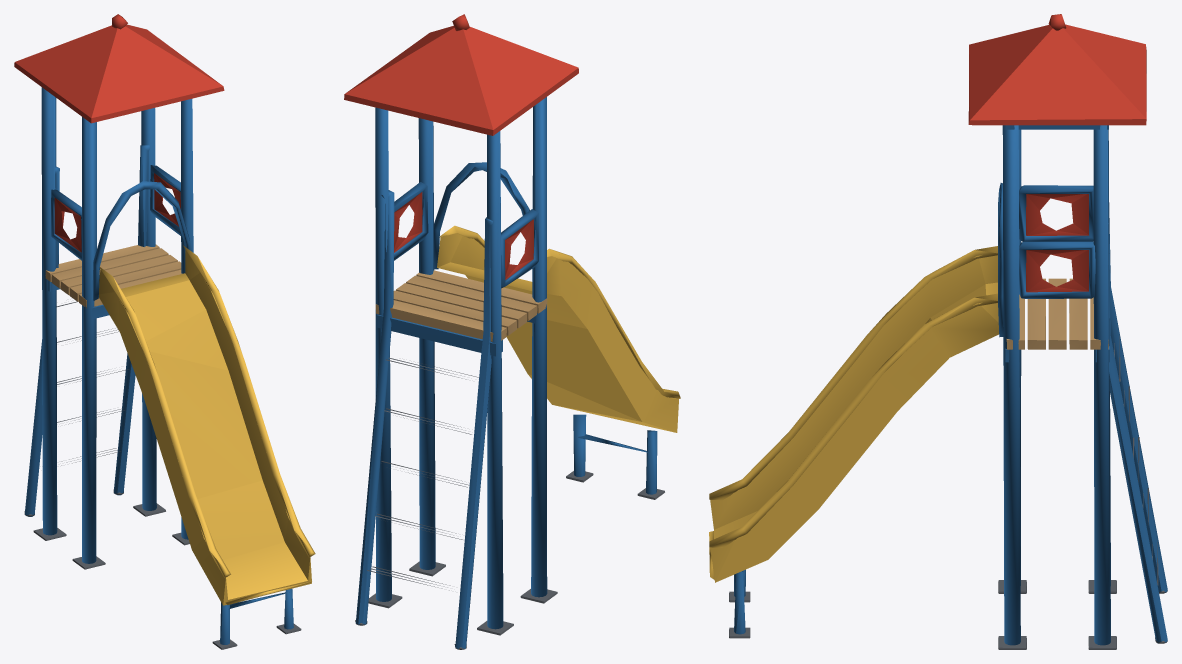
The model's file is slide.far.glb.
3 views of the same model, side by side, from view 1: azimuth 30°, elevation 25°; view 2: azimuth 150°, elevation 25°; view 3: azimuth 270°, elevation 25° (orthographic). The views are drawn at different scales.
Parts seen in each view (by area): view 1: slide_far; view 2: slide_far; view 3: slide_far.
Part boxes in pixels (left/top/right/bottom): slide_far: left=14, top=14, right=315, bottom=649; slide_far: left=344, top=14, right=680, bottom=649; slide_far: left=709, top=14, right=1167, bottom=649.
Bounding box in the file's own units: 0.7491 × 2.8 × 1.93.
